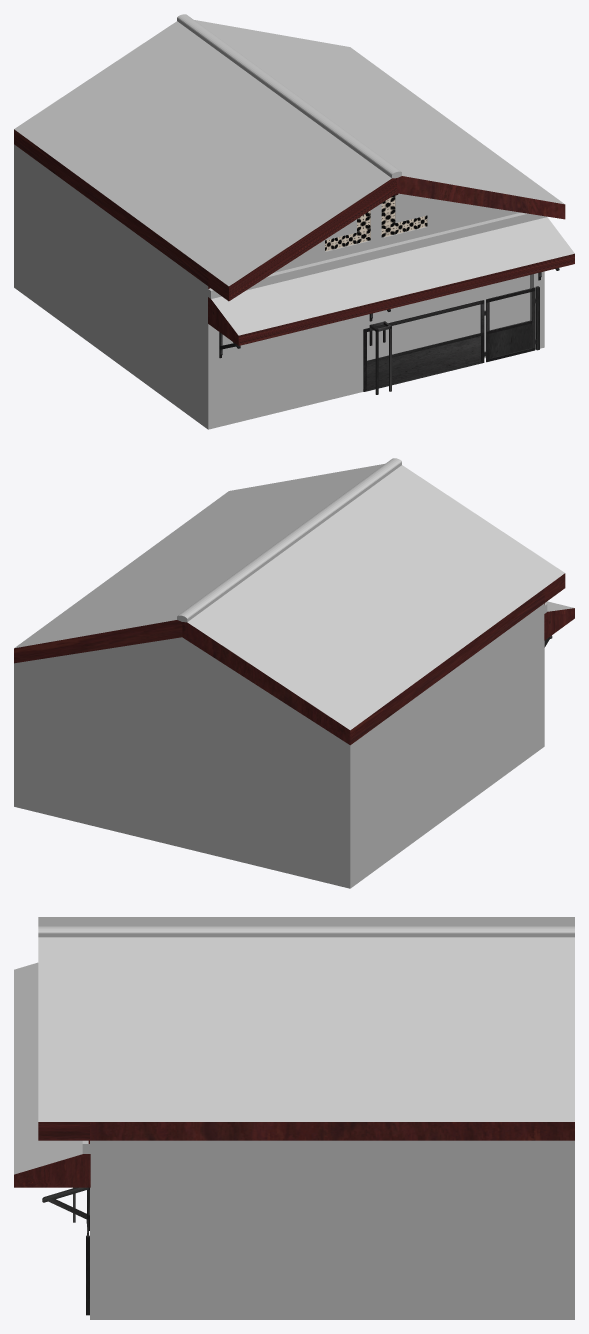
File: Asian House Style - Part 1.fbx
3 views of the same model, one above another, from view 1: azimuth 30°, elevation 25°; view 2: azimuth 150°, elevation 25°; view 3: azimuth 270°, elevation 25° (orthographic). The views are drawn at different scales.
Parts seen in each view (by area): view 1: Cube; view 2: Cube; view 3: Cube.
Boxes of the visible parts, x1,y1,x2,y2 form: Cube: [14, 14, 574, 429]; Cube: [14, 458, 574, 888]; Cube: [14, 917, 574, 1319].
Size of the model in its own units: 1000 by 659 by 1157.
